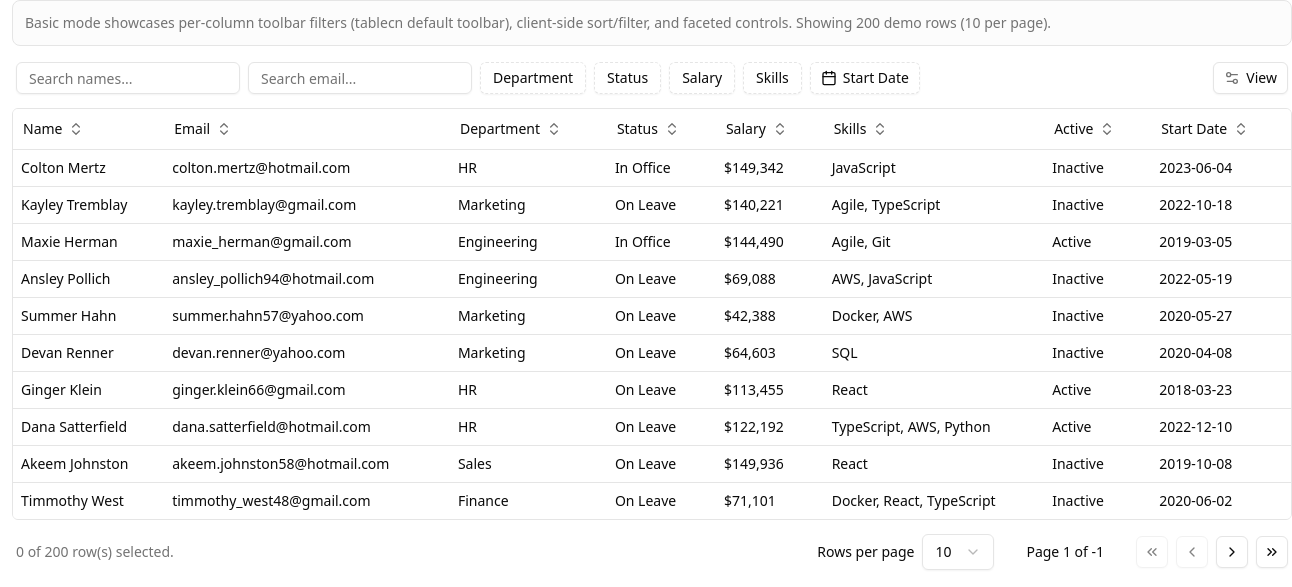
data-table-showcase.svelte › should show selected basic faceted filter values
The image size is (1292, 587).
Click the button with aria-label "Filter Department": {"x": 533, "y": 78} [480,62,586,94]
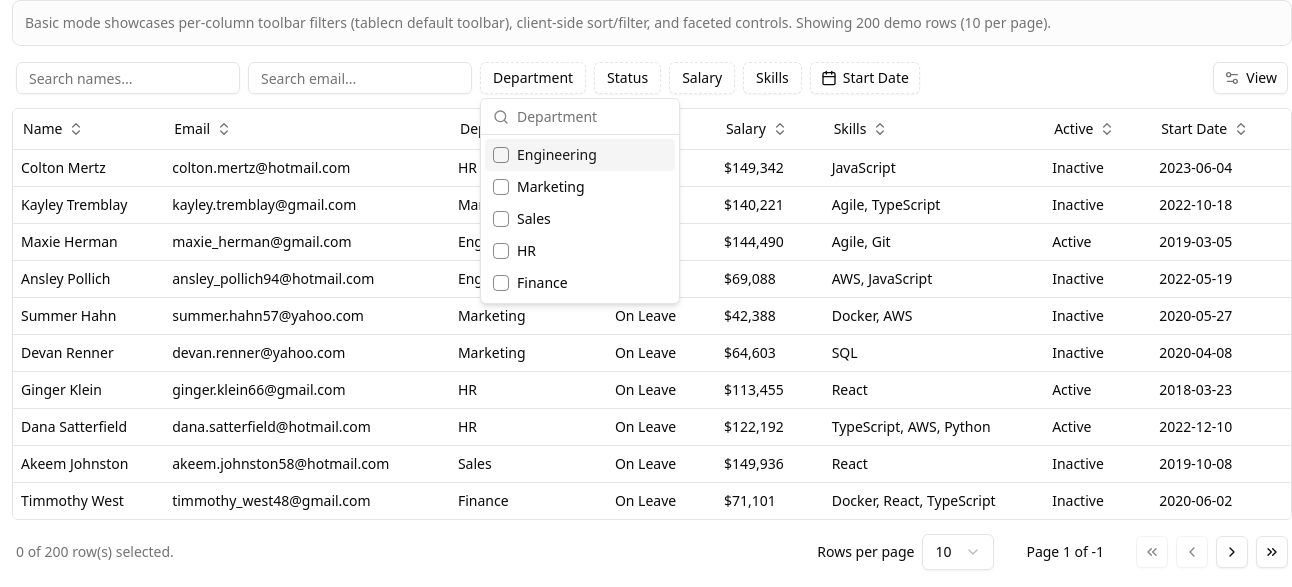
Click the option "Marketing": {"x": 539, "y": 186} [493,177,585,196]
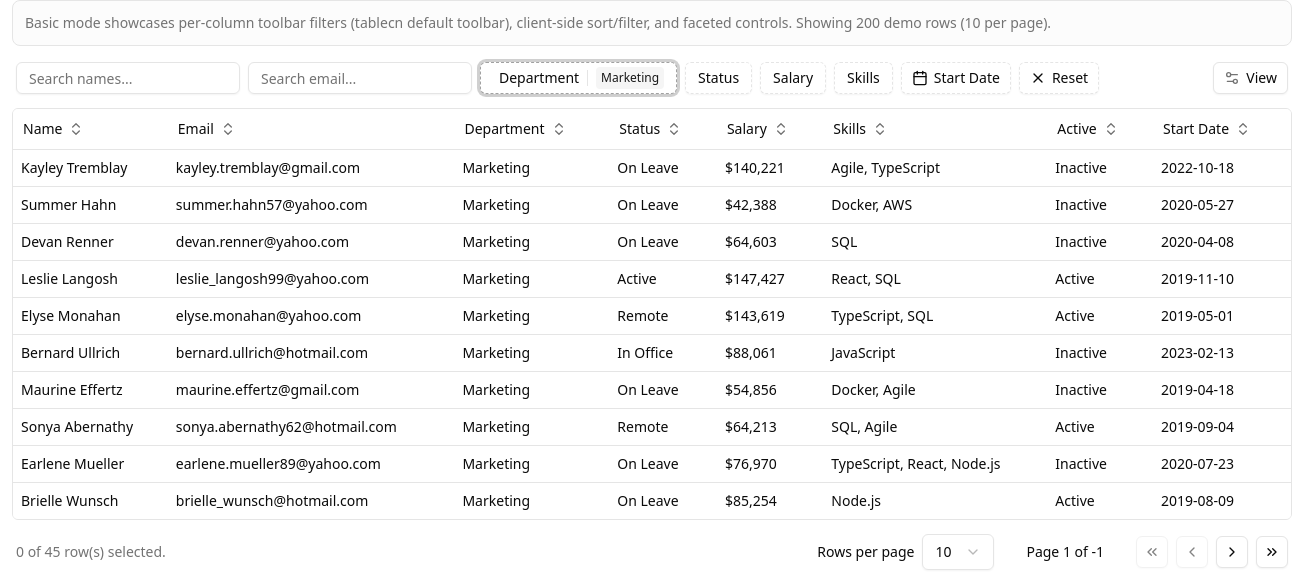
Now the text "Marketing" is shown, box [596,67,664,89]
Click the button with aria-label "Filter Status": {"x": 719, "y": 78} [685,62,752,94]
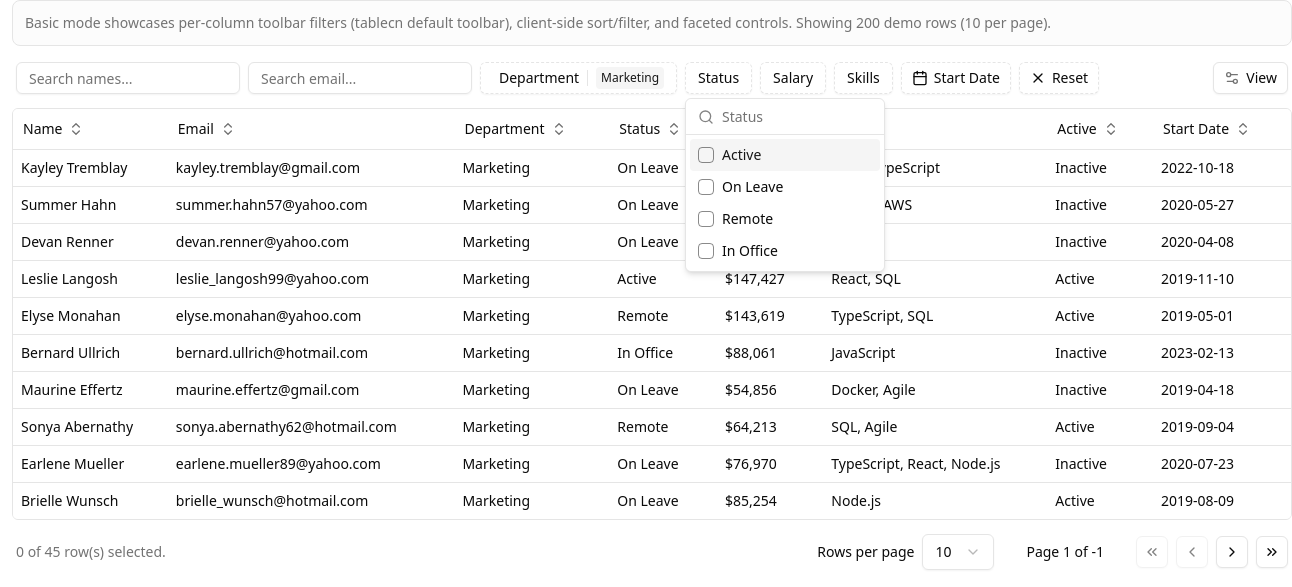
Click the option "Active": {"x": 785, "y": 155} [690,139,880,171]
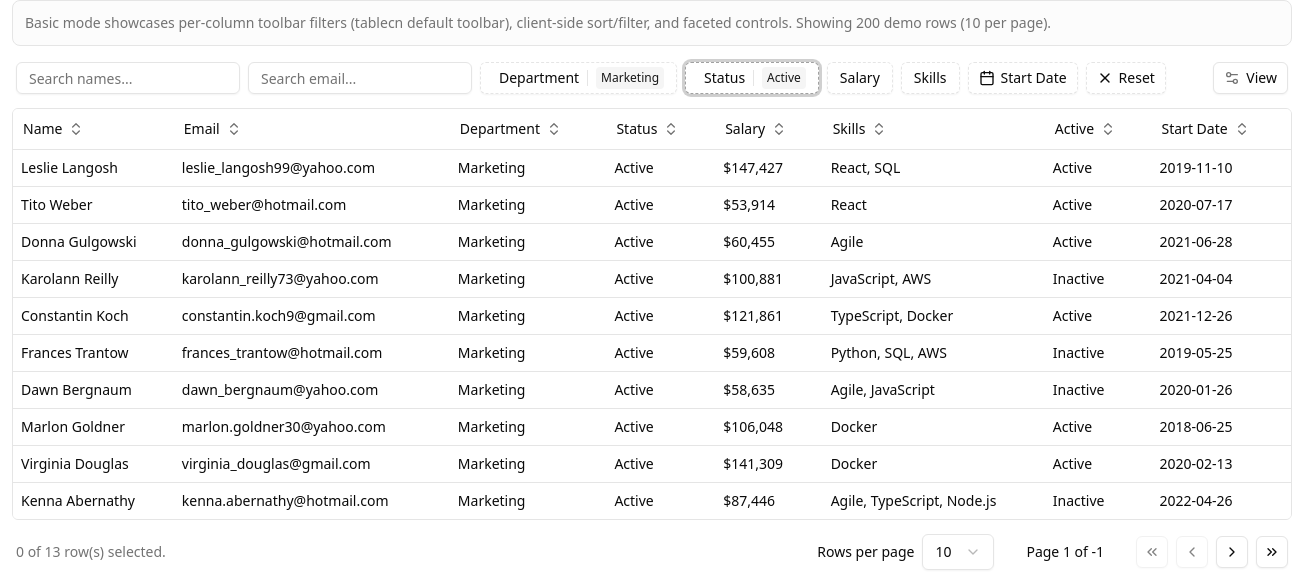
Now the text "Active" is shown, box [762,67,806,89]
